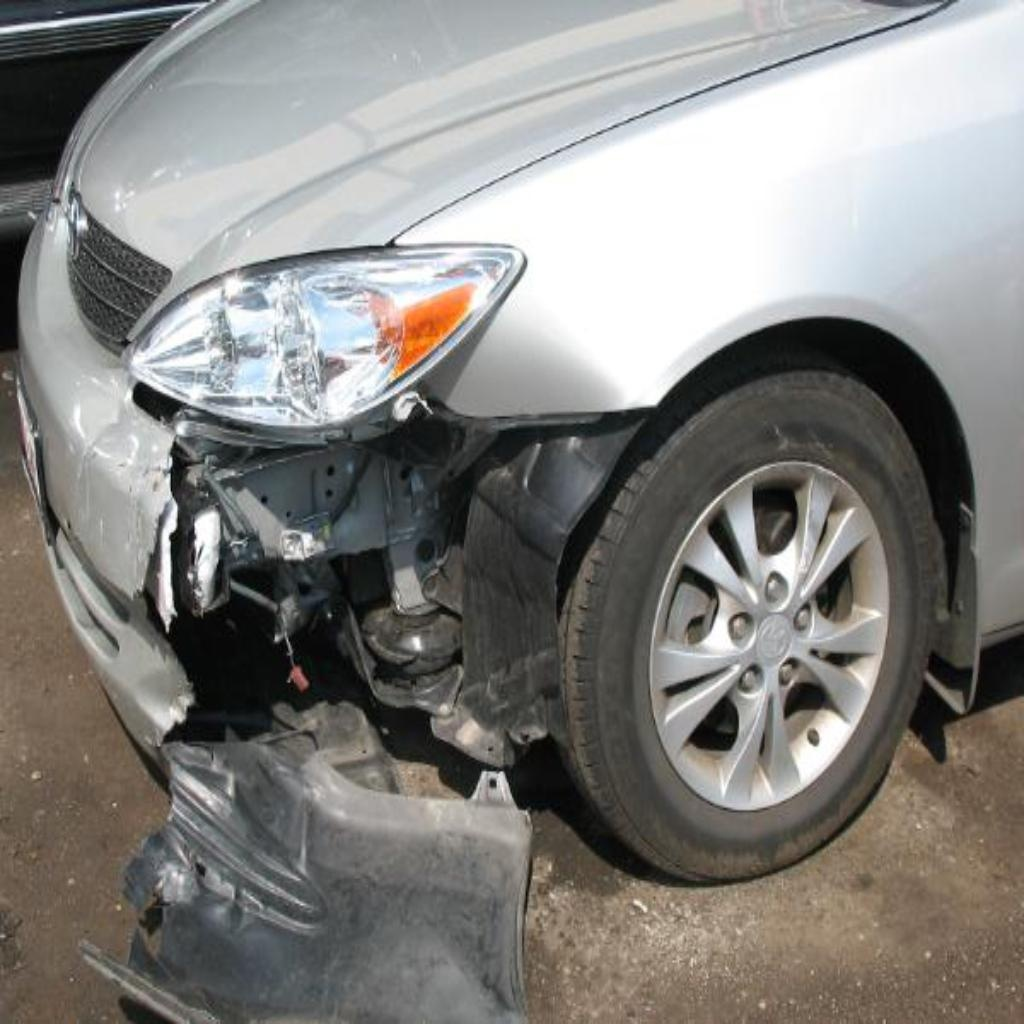Dent: (119, 391, 673, 889)
